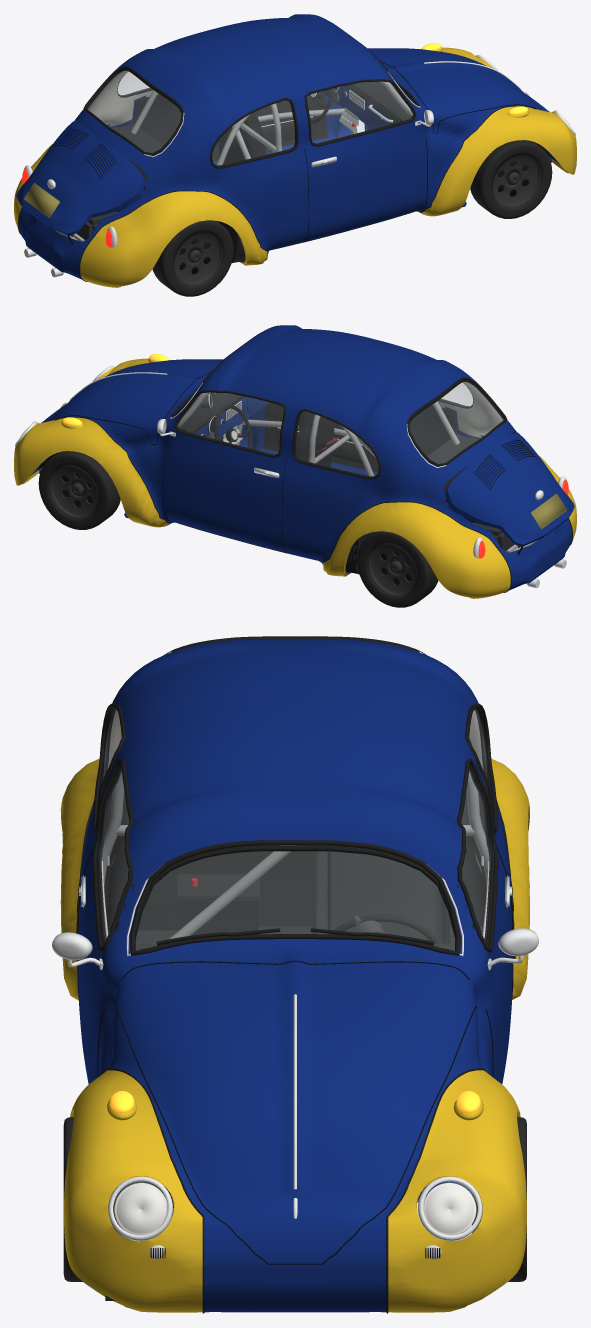
The model's file is fusca_v2.glb.
3 renders of one model, top to bottom at view 1: azimuth 30°, elevation 25°; view 2: azimuth 150°, elevation 25°; view 3: azimuth 270°, elevation 25°, orthographic. The views are drawn at different scales.
Visible parts, largest first — view 1: GLB_FUSCA_ROOT_Pintura_fusca_Interior_Escuro_Assoalho_Interi (×2), GLB_FUSCA_ROOT_Vidro_fusca, GLB_FUSCA_ROOT_Vinil_preto, GLB_FUSCA_ROOT_Borracha, GLB_Roda_Dianteira_Direita_PIVO_Pneu, GLB_Roda_Traseira_Direita_PIVO_Pneu, GLB_FUSCA_ROOT_Gaiola, GLB_Roda_Dianteira_Direita_PIVO_Roda_Aco_, GLB_Roda_Traseira_Direita_PIVO_Roda_Aco_, GLB_FUSCA_ROOT_Cromo, GLB_FUSCA_ROOT_Banco_concha_Banco_tecido, GLB_FUSCA_ROOT_Linha_Painel (+4 smaller); view 2: GLB_FUSCA_ROOT_Pintura_fusca_Interior_Escuro_Assoalho_Interi (×2), GLB_FUSCA_ROOT_Vidro_fusca, GLB_FUSCA_ROOT_Vinil_preto, GLB_FUSCA_ROOT_Borracha, GLB_Roda_Dianteira_Esquerda_PIVO_Pneu, GLB_Roda_Traseira_Esquerda_PIVO_Pneu, GLB_FUSCA_ROOT_Gaiola, GLB_Roda_Dianteira_Esquerda_PIVO_Roda_Aco_, GLB_Roda_Traseira_Esquerda_PIVO_Roda_Aco_, GLB_FUSCA_ROOT_Banco_concha_Banco_tecido, GLB_FUSCA_ROOT_Cromo, GLB_FUSCA_ROOT_Linha_Painel (+5 smaller); view 3: GLB_FUSCA_ROOT_Pintura_fusca_Interior_Escuro_Assoalho_Interi, GLB_FUSCA_ROOT_Vidro_fusca, GLB_FUSCA_ROOT_Borracha, GLB_FUSCA_ROOT_Vinil_preto, GLB_FUSCA_ROOT_Banco_tecido, GLB_FUSCA_ROOT_Cromo, GLB_FUSCA_ROOT_Vidro_farol, GLB_FUSCA_ROOT_Gaiola, GLB_FUSCA_ROOT_Farol_Disco, GLB_FUSCA_ROOT_Linha_Painel, GLB_FUSCA_ROOT_Cromo_Retrovisores, GLB_FUSCA_ROOT_Banco_concha_interno (+4 smaller).
Part boxes in pixels (<box>): GLB_FUSCA_ROOT_Pintura_fusca_Interior_Escuro_Assoalho_Interi (×2): <box>14,14,576,287</box>; GLB_FUSCA_ROOT_Vidro_fusca: <box>87,71,412,164</box>; GLB_FUSCA_ROOT_Vinil_preto: <box>111,81,411,262</box>; GLB_FUSCA_ROOT_Borracha: <box>18,44,551,281</box>; GLB_Roda_Dianteira_Direita_PIVO_Pneu: <box>470,140,552,218</box>; GLB_Roda_Traseira_Direita_PIVO_Pneu: <box>152,220,233,296</box>; GLB_FUSCA_ROOT_Gaiola: <box>131,81,412,165</box>; GLB_Roda_Dianteira_Direita_PIVO_Roda_Aco_: <box>493,155,539,205</box>; GLB_Roda_Traseira_Direita_PIVO_Roda_Aco_: <box>174,233,221,283</box>; GLB_FUSCA_ROOT_Cromo: <box>24,55,575,277</box>; GLB_FUSCA_ROOT_Banco_concha_Banco_tecido: <box>218,111,274,164</box>; GLB_FUSCA_ROOT_Linha_Painel: <box>54,61,549,242</box>; GLB_FUSCA_ROOT_Pintura_fusca_Interior_Escuro_Assoalho_Interi (×2): <box>14,325,576,598</box>; GLB_FUSCA_ROOT_Vidro_fusca: <box>178,382,503,475</box>; GLB_FUSCA_ROOT_Vinil_preto: <box>179,392,479,574</box>; GLB_FUSCA_ROOT_Borracha: <box>39,355,572,592</box>; GLB_Roda_Dianteira_Esquerda_PIVO_Pneu: <box>38,451,120,529</box>; GLB_Roda_Traseira_Esquerda_PIVO_Pneu: <box>357,531,438,607</box>; GLB_FUSCA_ROOT_Gaiola: <box>178,392,459,476</box>; GLB_Roda_Dianteira_Esquerda_PIVO_Roda_Aco_: <box>51,466,97,516</box>; GLB_Roda_Traseira_Esquerda_PIVO_Roda_Aco_: <box>369,544,416,594</box>; GLB_FUSCA_ROOT_Banco_concha_Banco_tecido: <box>296,411,334,467</box>; GLB_FUSCA_ROOT_Cromo: <box>15,366,566,588</box>; GLB_FUSCA_ROOT_Linha_Painel: <box>41,372,536,553</box>; GLB_FUSCA_ROOT_Pintura_fusca_Interior_Escuro_Assoalho_Interi: <box>60,639,529,1312</box>; GLB_FUSCA_ROOT_Vidro_fusca: <box>100,709,490,950</box>; GLB_FUSCA_ROOT_Borracha: <box>76,636,516,1313</box>; GLB_FUSCA_ROOT_Vinil_preto: <box>104,790,486,950</box>; GLB_FUSCA_ROOT_Banco_tecido: <box>327,845,434,940</box>; GLB_FUSCA_ROOT_Cromo: <box>79,652,511,1259</box>; GLB_FUSCA_ROOT_Vidro_farol: <box>114,1182,476,1234</box>; GLB_FUSCA_ROOT_Gaiola: <box>101,771,489,939</box>; GLB_FUSCA_ROOT_Farol_Disco: <box>117,1185,473,1233</box>; GLB_FUSCA_ROOT_Linha_Painel: <box>77,846,513,1264</box>; GLB_FUSCA_ROOT_Cromo_Retrovisores: <box>52,928,538,970</box>; GLB_FUSCA_ROOT_Banco_concha_interno: <box>179,899,258,935</box>.
Size of the model in its own units: 3.81 by 1.34 by 1.59.
